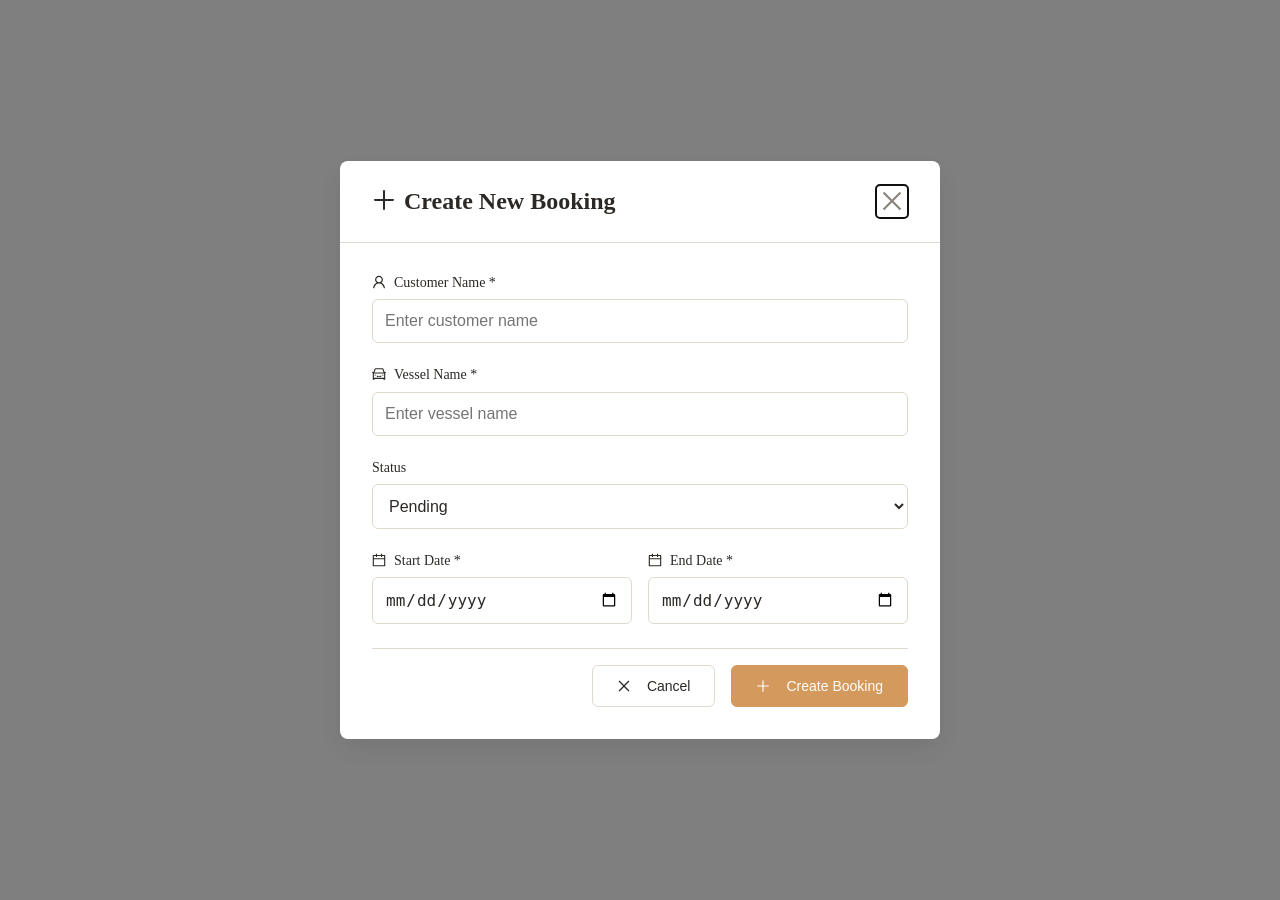
CreateBookingForm › Form Validation › displays validation errors for empty required fields
# Try to submit empty form
Click the button "Create Booking".
click(820, 686)  # box top-left (732, 665), bottom-right (908, 707)
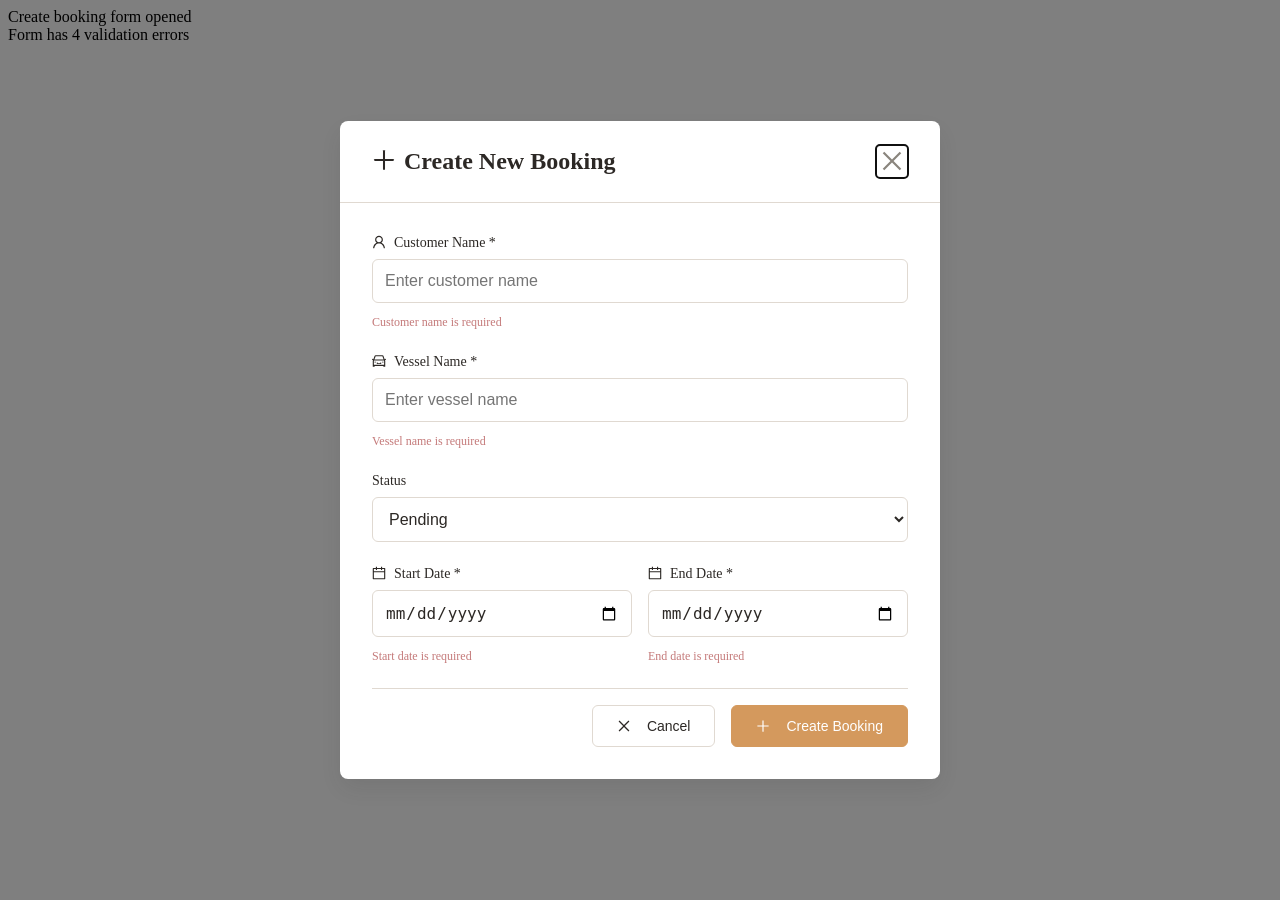
Expected: the text "Customer name is required" is shown, top-left (372, 315), bottom-right (502, 329)
Expected: the text "Vessel name is required" is shown, top-left (372, 434), bottom-right (486, 448)
Expected: the text "Start date is required" is shown, top-left (372, 649), bottom-right (472, 663)
